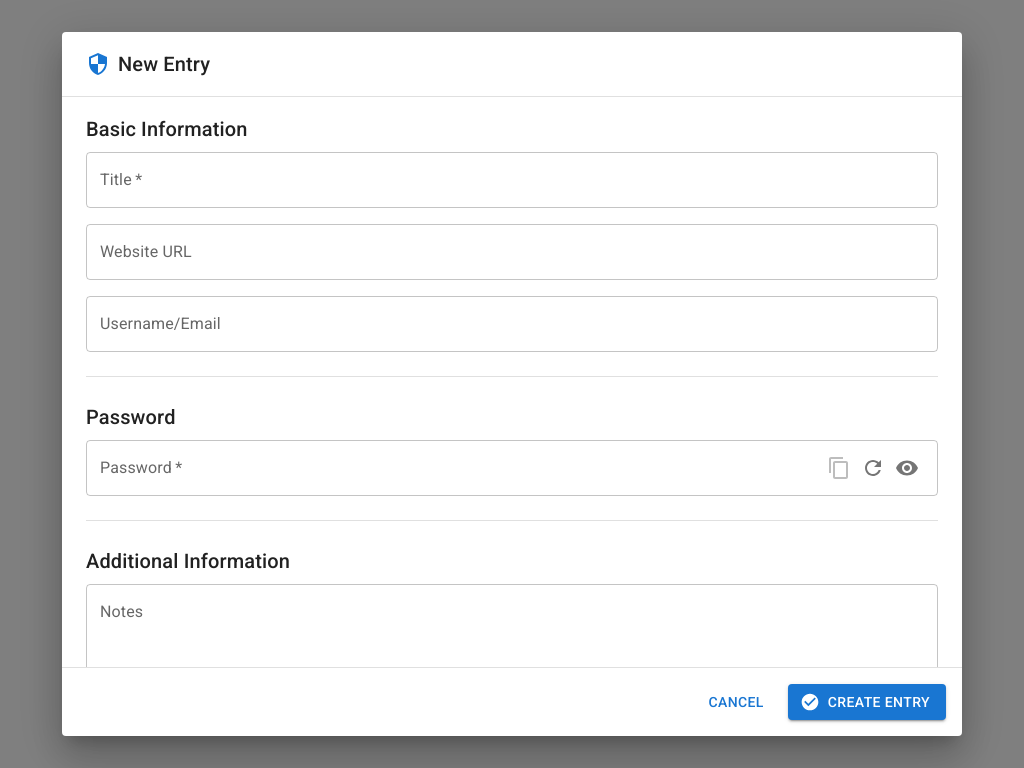
Test: VaultEntryForm › Form Validation › shows validation errors for required fields
What coordinates should you click on to do the following:
click the button "Create Entry"
I would click on:
 (867, 702)
Its box is x1=788 y1=684 x2=946 y2=720.
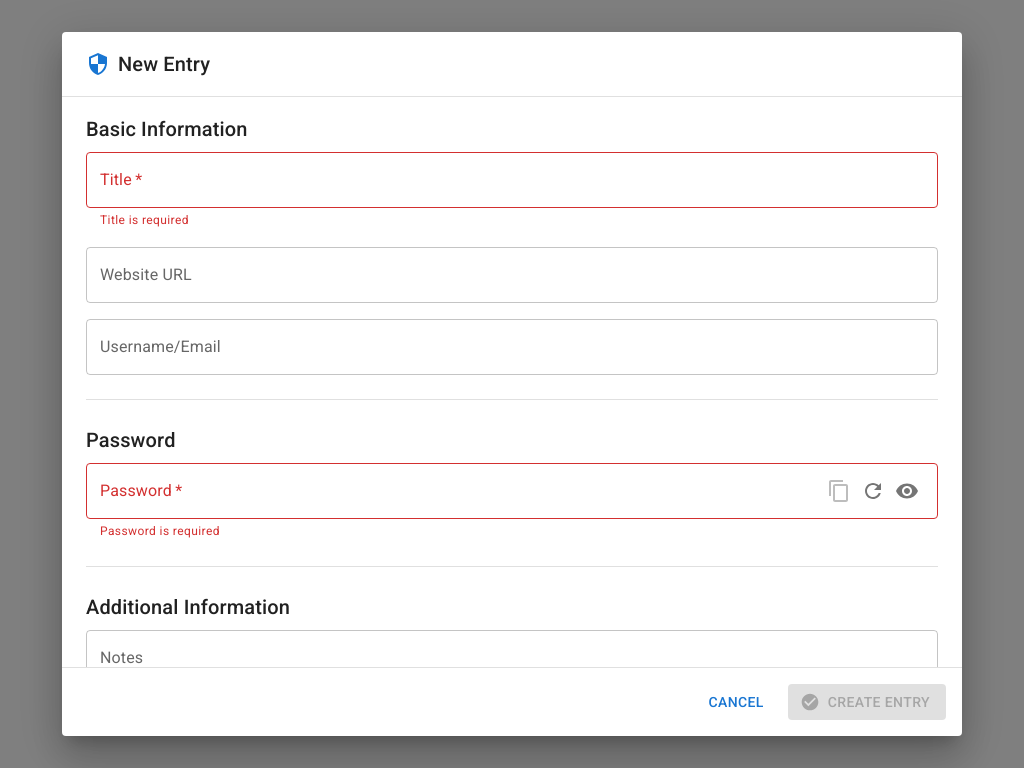
Result: the text "Title is required" is shown at x1=100 y1=213 x2=189 y2=227
Result: the text "Password is required" is shown at x1=100 y1=524 x2=220 y2=538
